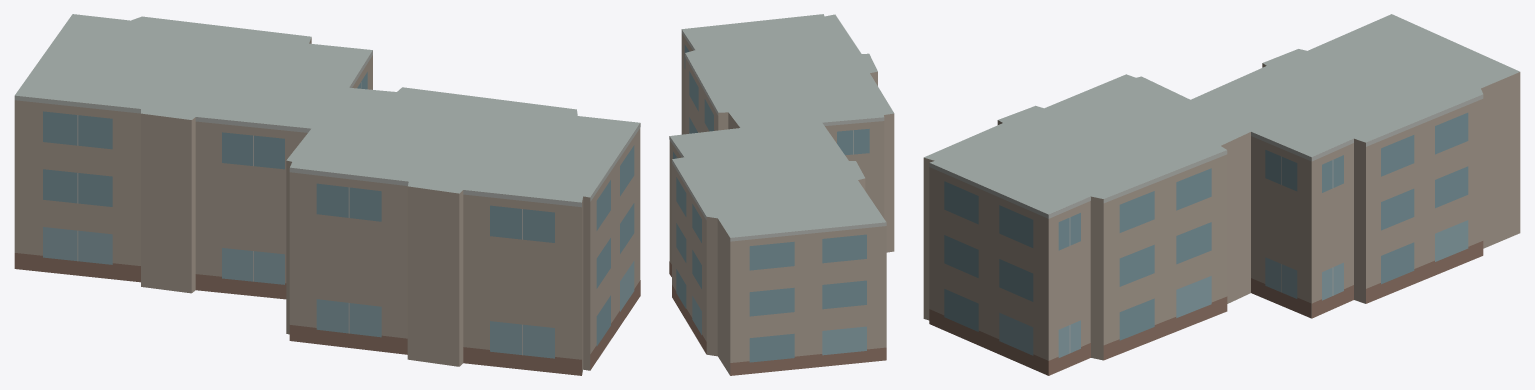
The model's file is survey-upis-32673784.glb.
The picture shows the model from 3 angles, left to right: view 1: azimuth 30°, elevation 25°; view 2: azimuth 150°, elevation 25°; view 3: azimuth 270°, elevation 25°; orthographic projection. The views are drawn at different scales.
Visible parts, largest first — view 1: survey-upis-32673784.tmp; view 2: survey-upis-32673784.tmp; view 3: survey-upis-32673784.tmp.
Part boxes in pixels (<box>): survey-upis-32673784.tmp: <box>14,14,640,375</box>; survey-upis-32673784.tmp: <box>669,14,894,375</box>; survey-upis-32673784.tmp: <box>923,14,1520,375</box>.
Bounding box in the file's own units: 24.41 × 9.15 × 30.69.
